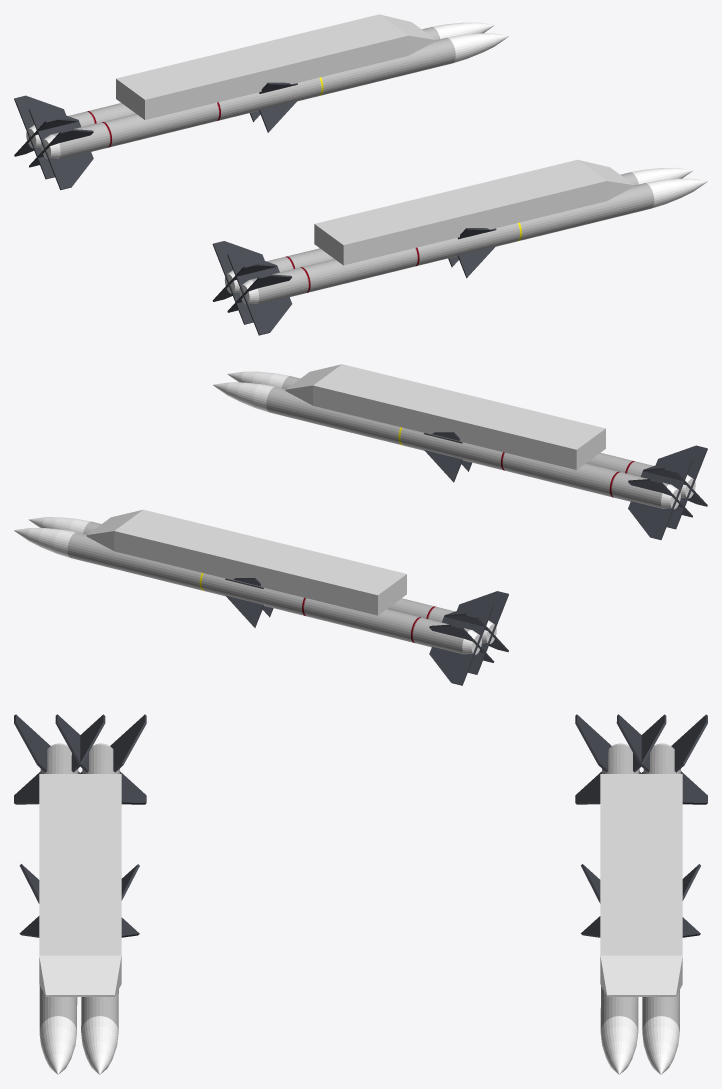
Rendered from f15exaim12069.glb.
The picture shows the model from 3 angles, top to bottom: view 1: azimuth 30°, elevation 25°; view 2: azimuth 150°, elevation 25°; view 3: azimuth 270°, elevation 25°; orthographic projection. The views are drawn at different scales.
Visible parts, largest first — view 1: 立方体.005, 立方体.003, 円柱.004, 円柱.013, 円柱.005, 円柱.014; view 2: 立方体.005, 立方体.003, 円柱.014, 円柱.005, 円柱.013, 円柱.004; view 3: 立方体.003, 立方体.005, 円柱.013, 円柱.004, 円柱.014, 円柱.005.
Boxes of the visible parts, box(x1,y1,x2,y2) form: 立方体.005: box(314, 159, 634, 265); 立方体.003: box(116, 14, 435, 119); 円柱.004: box(29, 33, 508, 190); 円柱.013: box(227, 178, 707, 335); 円柱.005: box(14, 22, 494, 179); 円柱.014: box(212, 167, 693, 324); 立方体.005: box(285, 364, 605, 469); 立方体.003: box(86, 509, 406, 615); 円柱.014: box(213, 382, 692, 539); 円柱.005: box(14, 528, 494, 685); 円柱.013: box(227, 371, 707, 529); 円柱.004: box(28, 517, 508, 674); 立方体.003: box(600, 774, 682, 996); 立方体.005: box(39, 774, 121, 996); 円柱.013: box(14, 714, 105, 1074); 円柱.004: box(575, 714, 666, 1074); 円柱.014: box(55, 714, 146, 1074); 円柱.005: box(616, 714, 707, 1074).
Size of the model in its own units: 4.39 by 0.557 by 4.02.
Materials: 4 (4 with a texture image).
